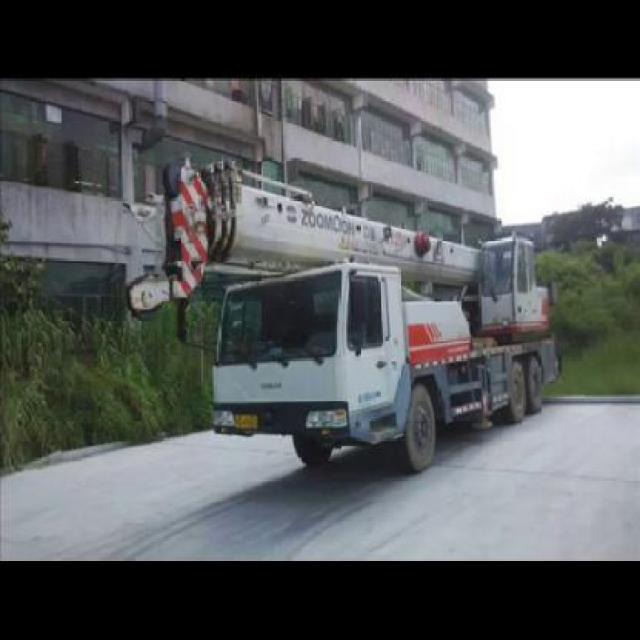Mobile Crane: (131, 157, 549, 478)
